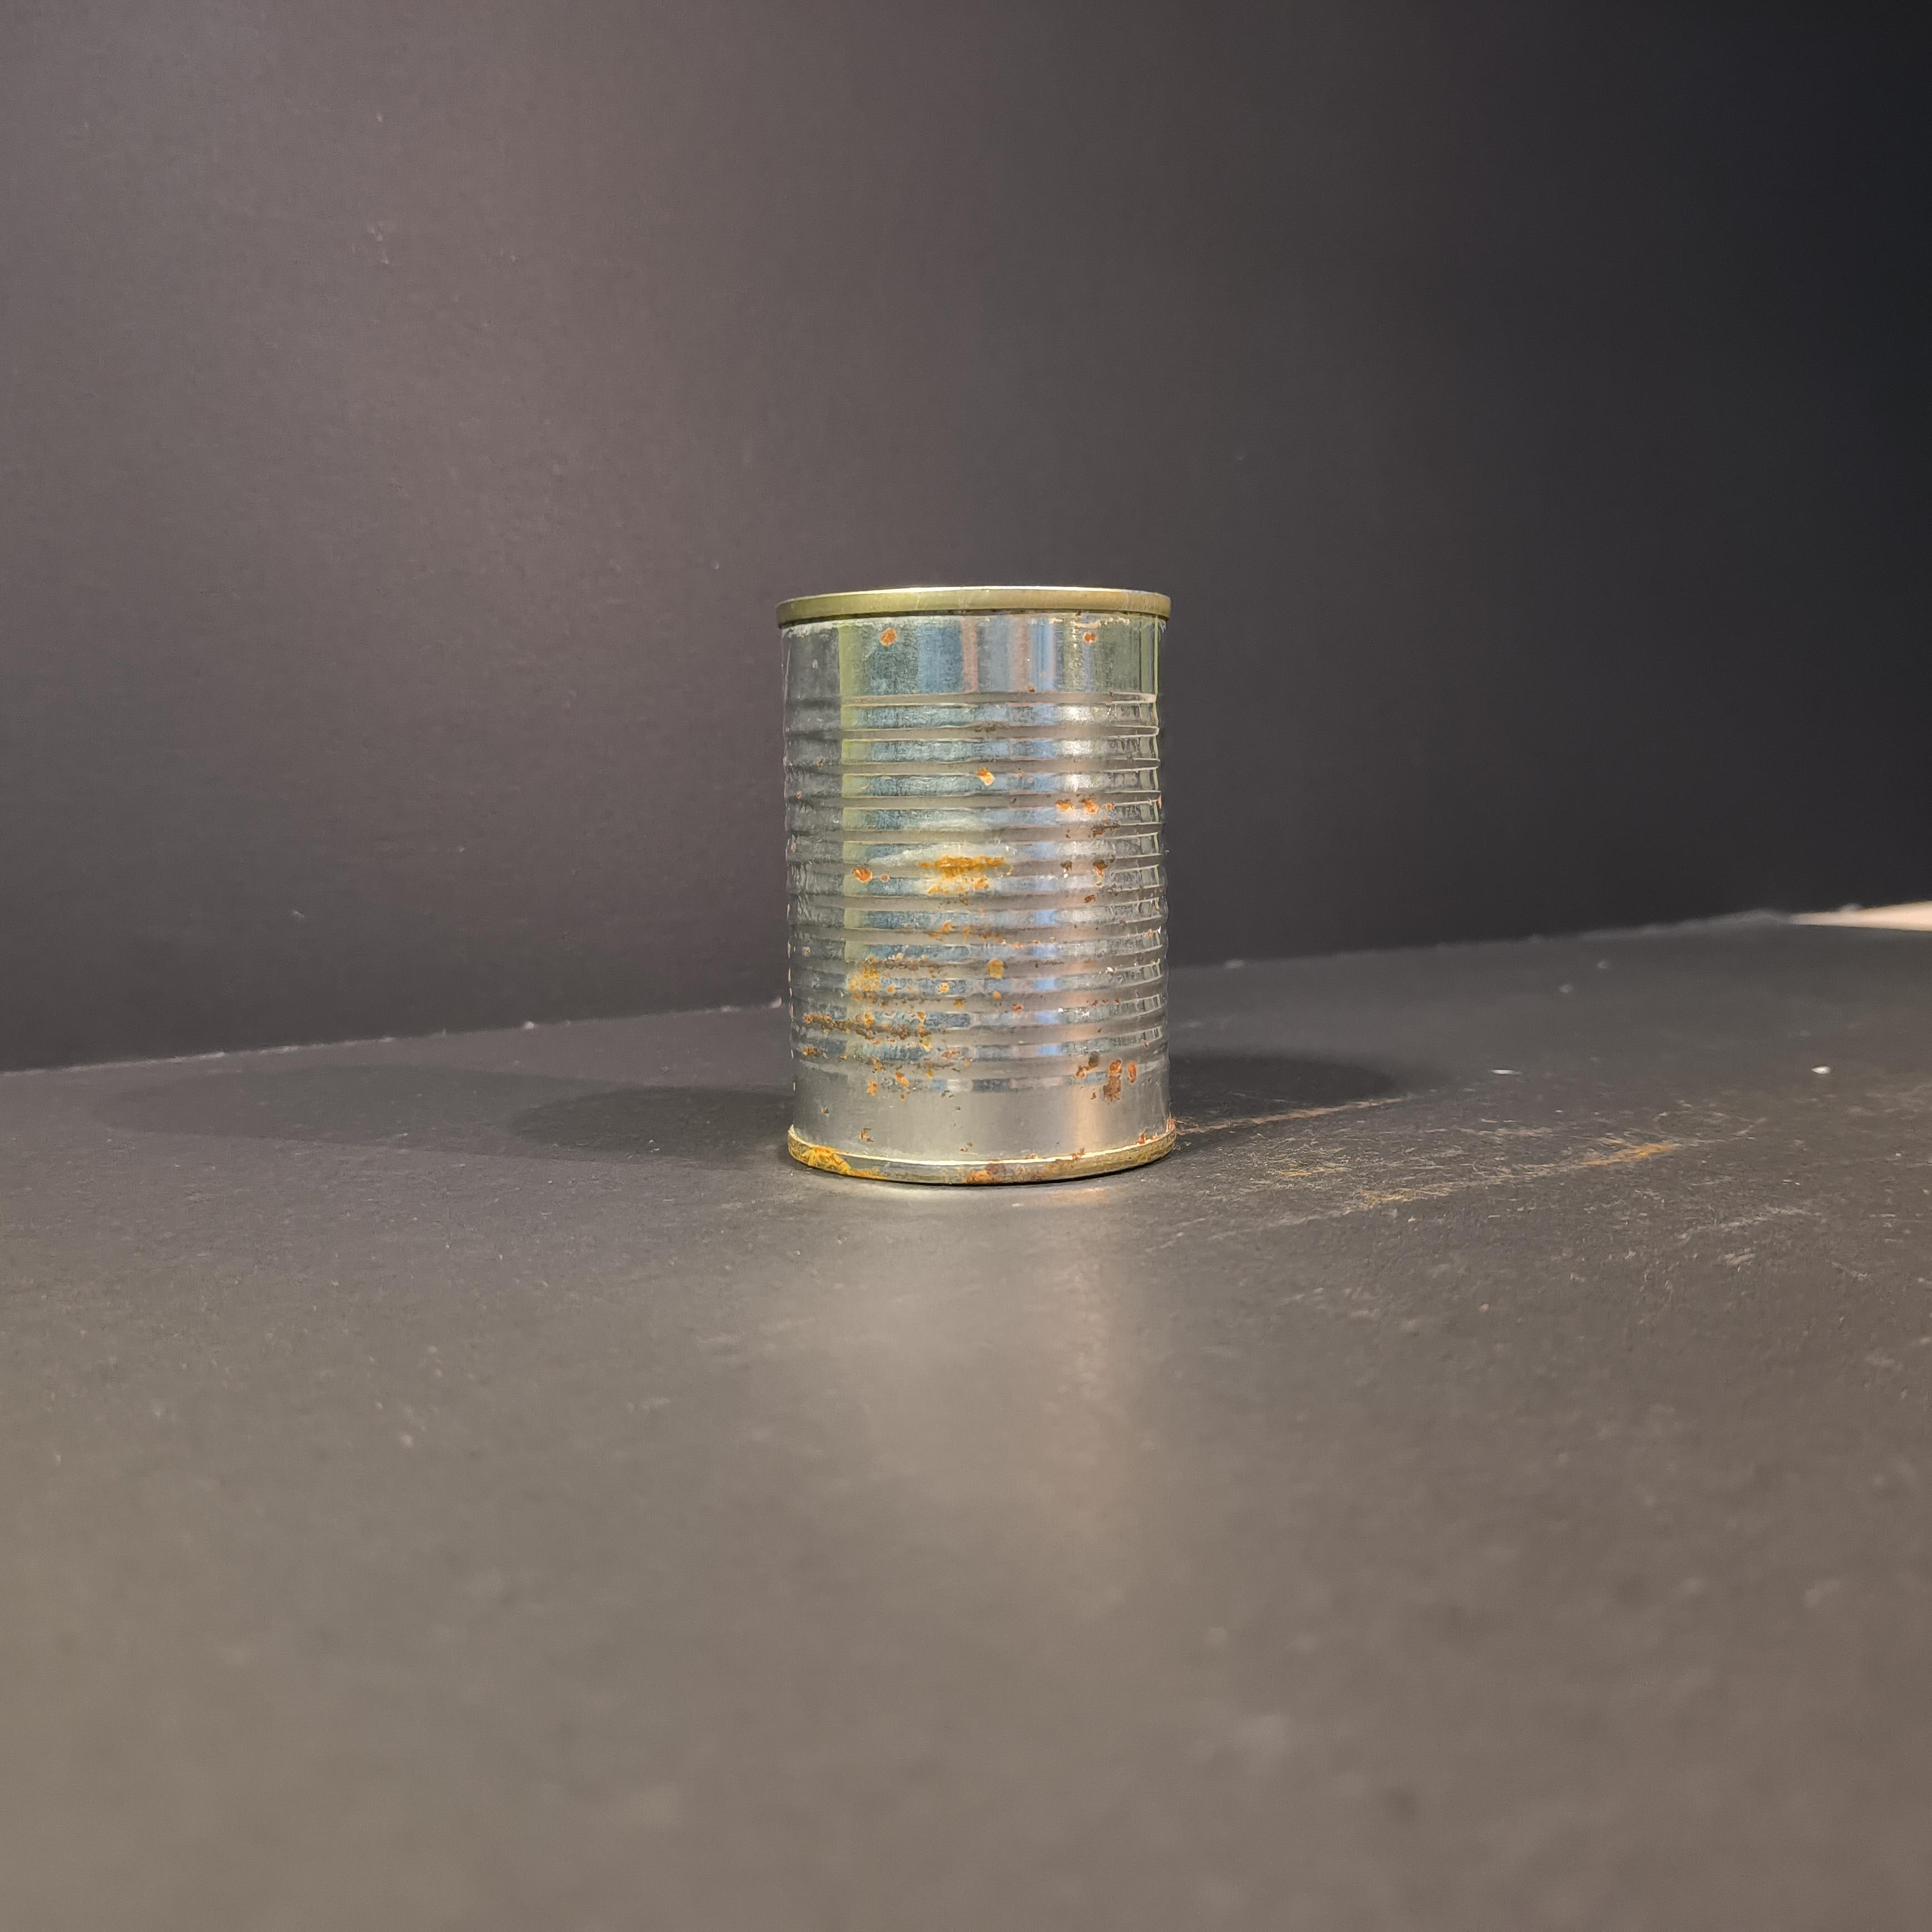Rusted: (763, 563, 1221, 1200)
